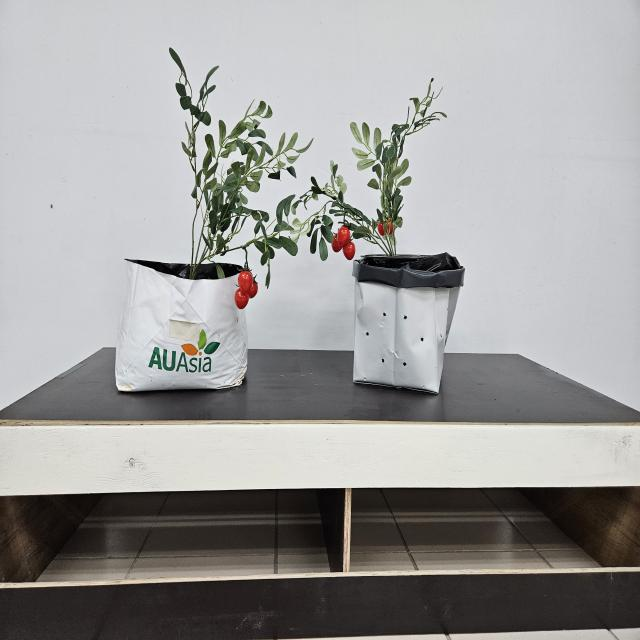Soilbag: (114, 261, 258, 395), (352, 254, 464, 395)
Tomato: (233, 271, 260, 314), (330, 224, 358, 260)
plant: (169, 49, 313, 310), (294, 80, 447, 262)
